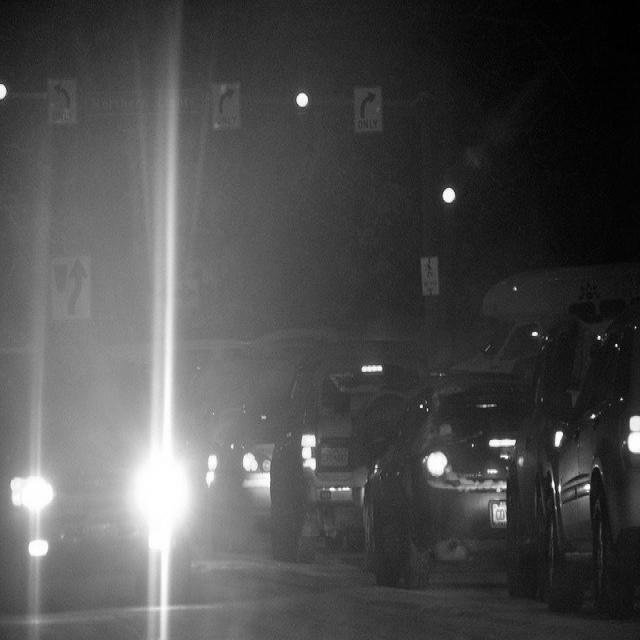car: (1, 344, 198, 605), (362, 369, 532, 591), (507, 301, 634, 591), (536, 312, 636, 615), (198, 333, 318, 555), (140, 337, 256, 503)
truck: (260, 345, 439, 564)
